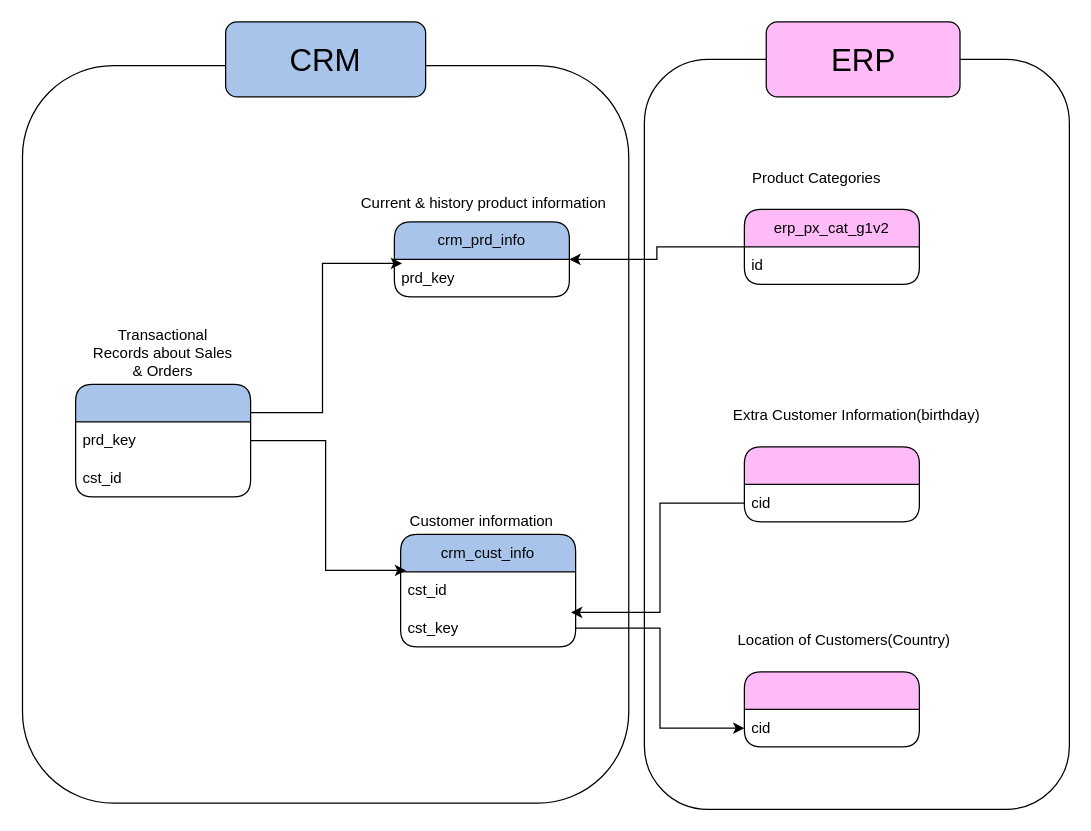
The diagram is 1091 pixels wide and 831 high, and some of its shapes have lost their labels. The box of each missing label's shape, as (x1, y1, x2, y2) in pixels:
crm_sales_detalis: (74, 383, 251, 497)
erp_cust_az12: (743, 446, 919, 522)
erp_loc_a101: (743, 671, 919, 747)
